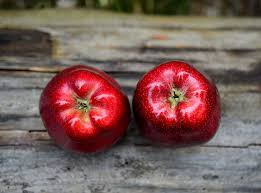apple: (40, 65, 129, 150), (132, 60, 221, 145)
